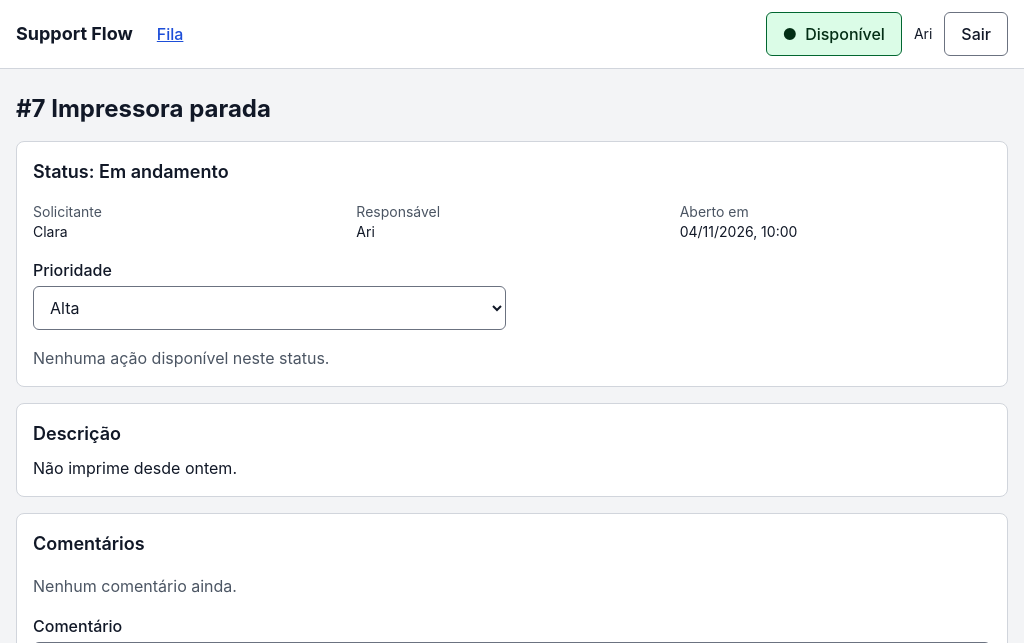
ticket › 409 no PATCH de prioridade mantém o valor do servidor e oferece recarregar
Select "Urgente" in the dropdown labelled "Prioridade" at x=270, y=308, box [33,286,506,330]
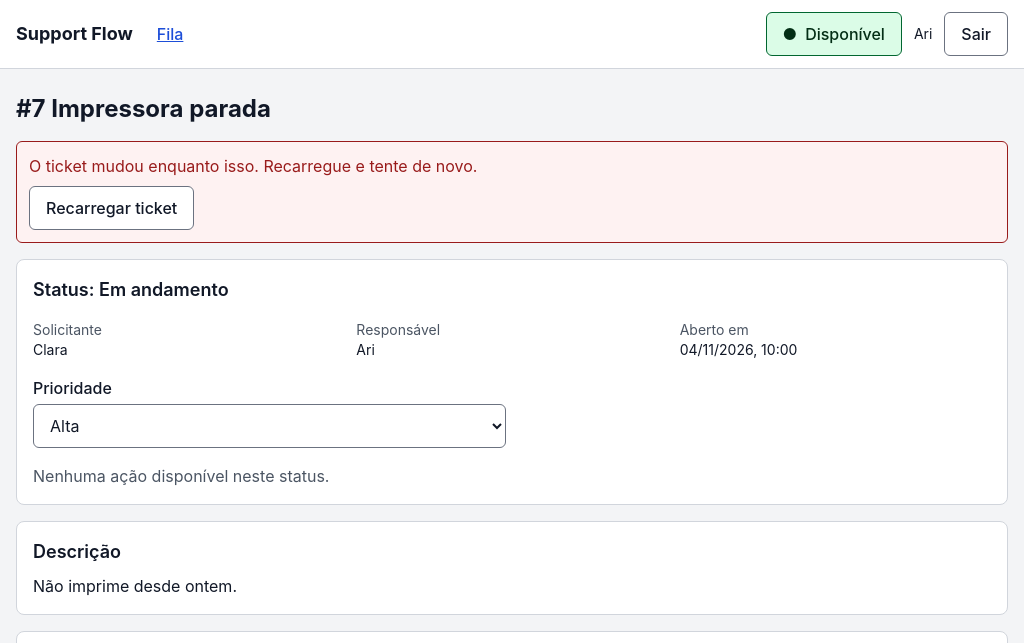
Expected: the message shows "O ticket mudou", [29,156,477,176]
Expected: the button "Recarregar ticket" is shown, [29,186,194,230]
